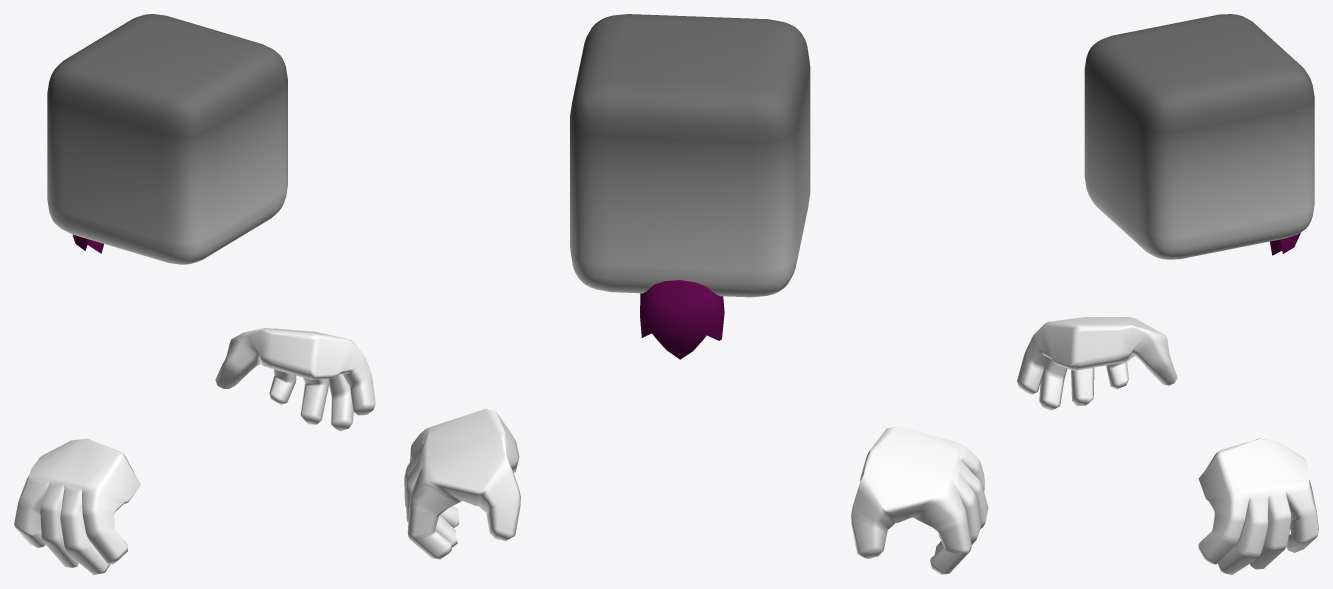
The model's file is BeardedAvatarMan.fbx.
3 views of the same model, side by side, from view 1: azimuth 30°, elevation 25°; view 2: azimuth 150°, elevation 25°; view 3: azimuth 270°, elevation 25° (orthographic). The views are drawn at different scales.
Parts seen in each view (by area): view 1: Head, Hand (×2); view 2: Head, Hand (×2), FacialHair; view 3: Head, Hand (×2).
Part boxes in pixels (<box>): Head: <box>47,14,287,264</box>; Hand (×2): <box>14,328,375,574</box>; Head: <box>570,14,810,297</box>; Hand (×2): <box>404,409,988,574</box>; FacialHair: <box>640,280,724,359</box>; Head: <box>1084,14,1314,259</box>; Hand (×2): <box>1017,317,1318,574</box>.
Size of the model in its own units: 1.03 by 1.05 by 0.6616.
